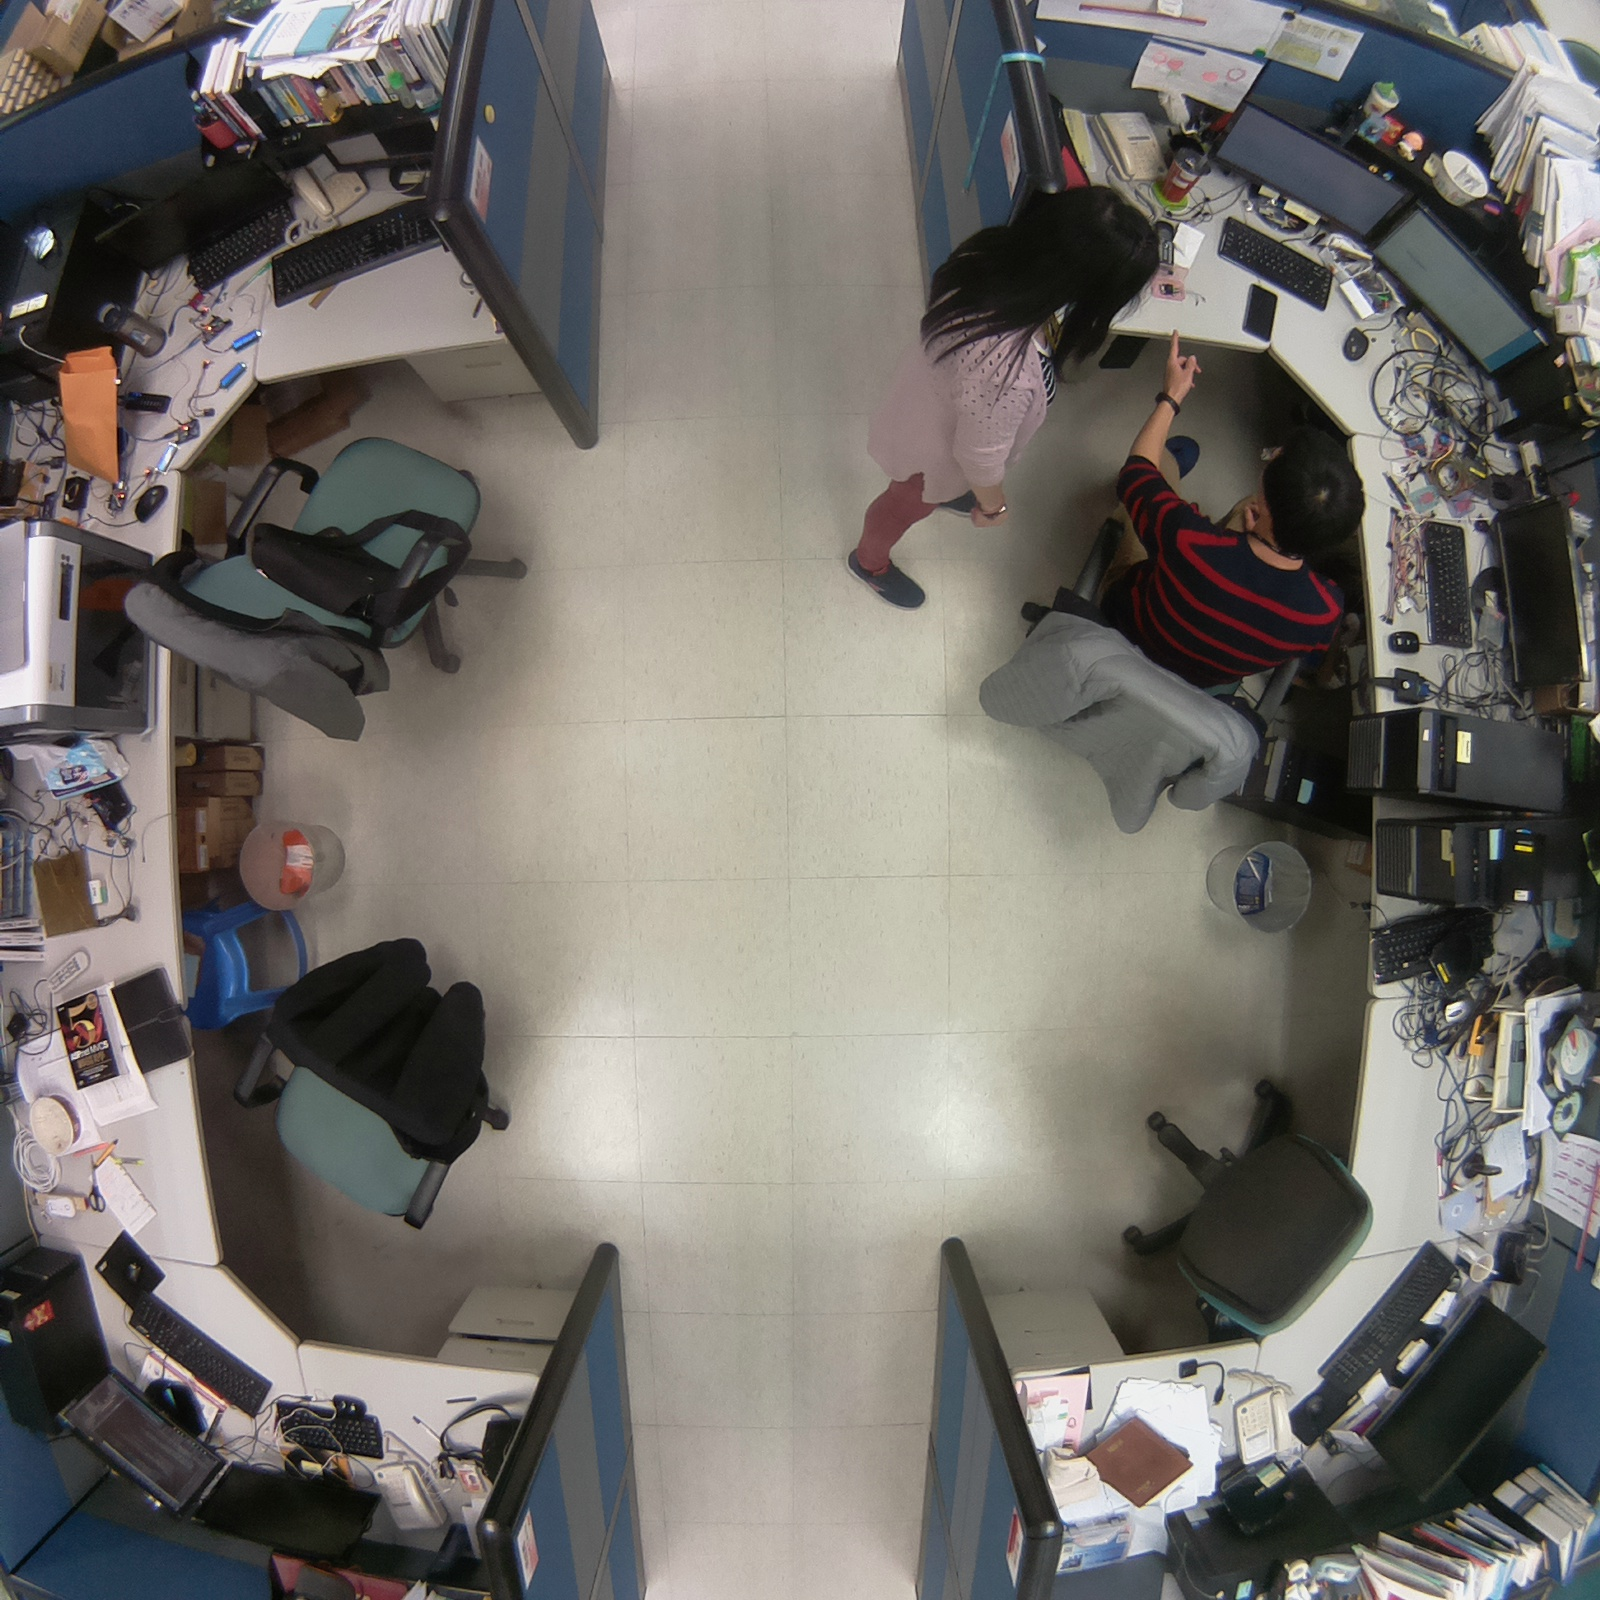chair: (96, 411, 547, 765), (224, 904, 532, 1242), (1088, 1068, 1391, 1355)
head: (980, 174, 1166, 353), (1251, 417, 1372, 565)
sitting: (976, 426, 1368, 850)
standing: (833, 167, 1168, 643)
